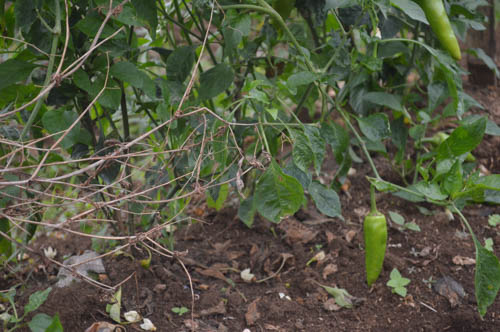ChiliPepper: (424, 1, 462, 62), (362, 213, 387, 288)
